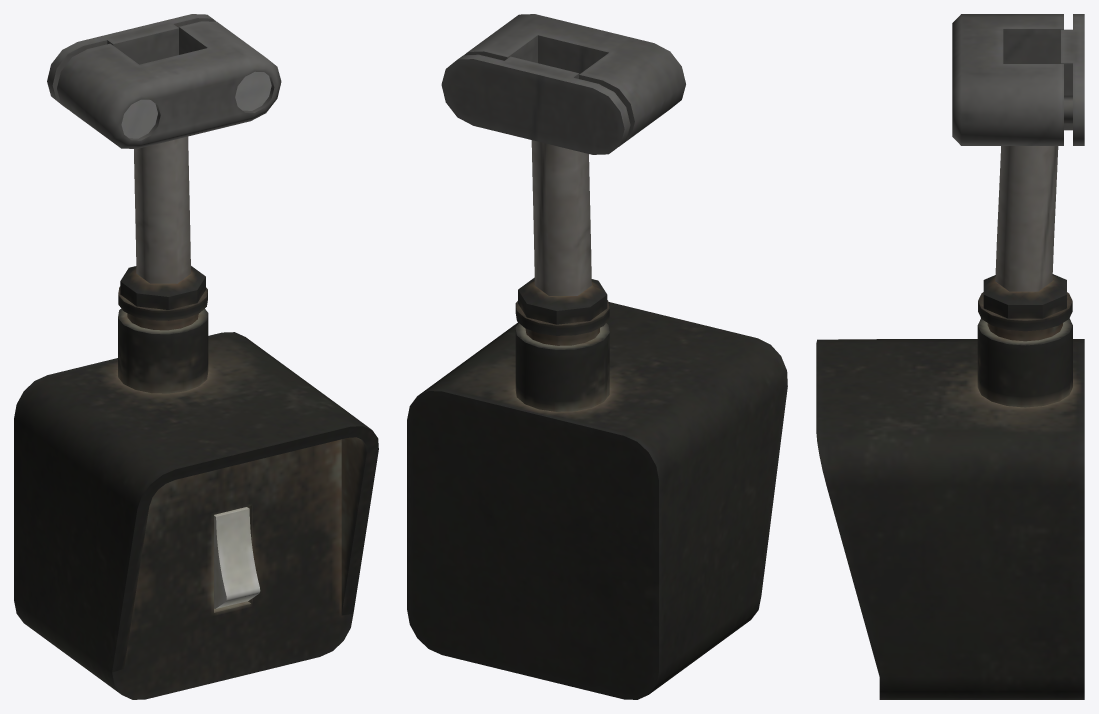
Rendered from cable_cable_lightswitch_2.fbx.
The picture shows the model from 3 angles, left to right: view 1: azimuth 30°, elevation 25°; view 2: azimuth 150°, elevation 25°; view 3: azimuth 270°, elevation 25°; orthographic projection. The views are drawn at different scales.
Visible parts, largest first — view 1: modular_electric_cables_boxes__cable_lightswitch_2; view 2: modular_electric_cables_boxes__cable_lightswitch_2; view 3: modular_electric_cables_boxes__cable_lightswitch_2.
Part boxes in pixels (bbox=[...]): modular_electric_cables_boxes__cable_lightswitch_2: bbox=[14, 14, 378, 699]; modular_electric_cables_boxes__cable_lightswitch_2: bbox=[407, 14, 787, 699]; modular_electric_cables_boxes__cable_lightswitch_2: bbox=[816, 14, 1084, 699].
Bounding box in the file's own units: 0.0572 × 0.1311 × 0.0527.
